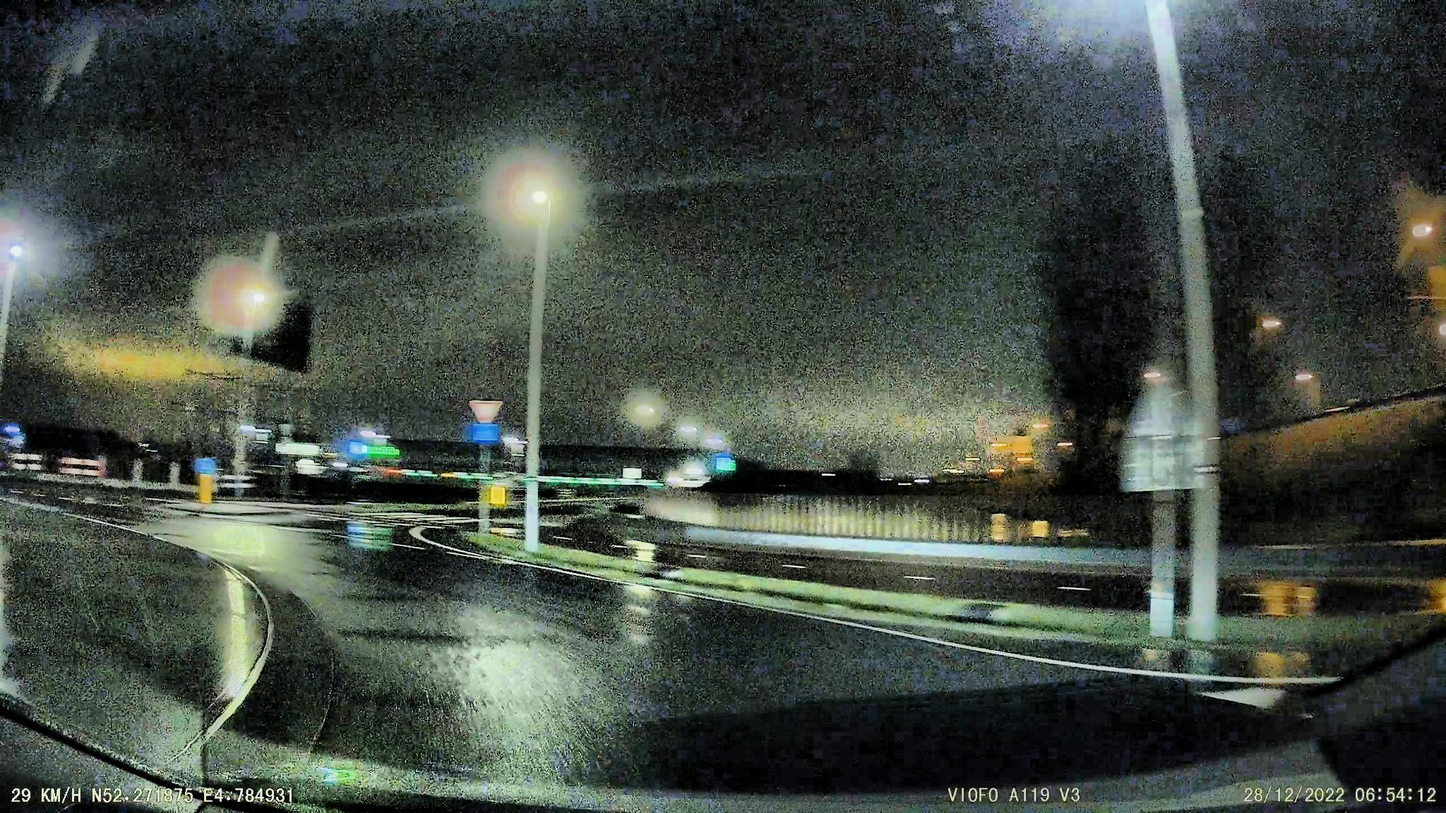Roads: (182, 510, 1446, 813)
